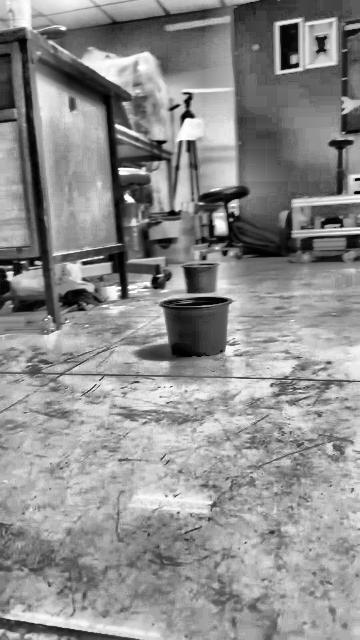pot: (159, 295, 231, 357), (181, 262, 217, 292)
